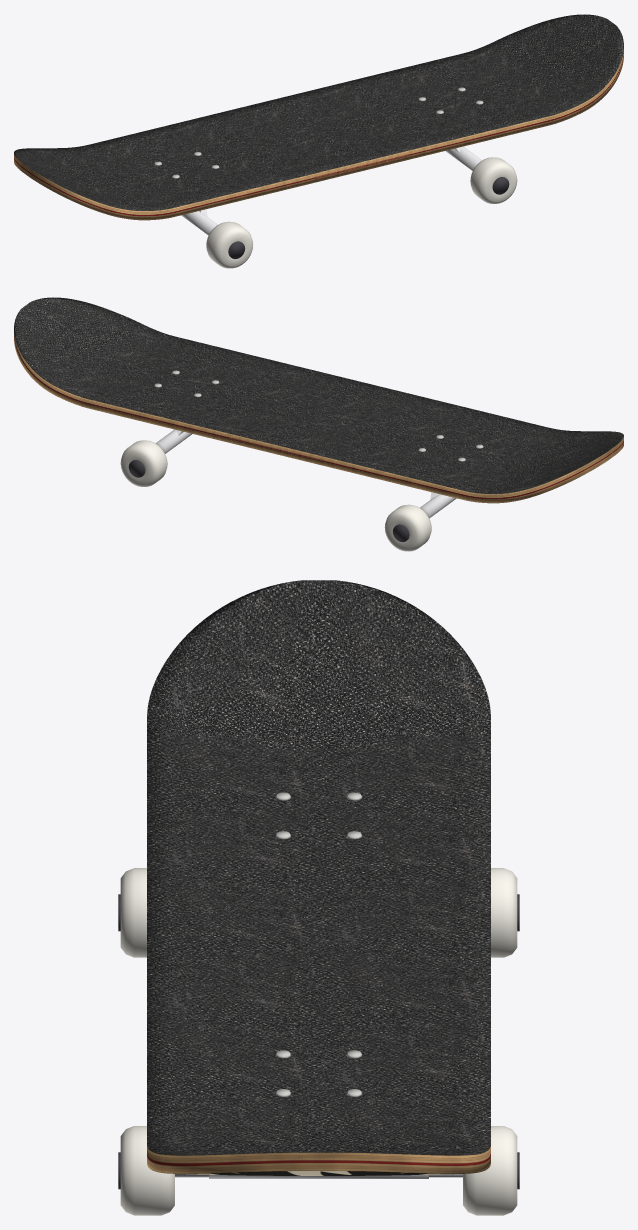
File: board.glb
3 views of the same model, one above another, from view 1: azimuth 30°, elevation 25°; view 2: azimuth 150°, elevation 25°; view 3: azimuth 270°, elevation 25° (orthographic). The views are drawn at different scales.
Visible parts, largest first — view 1: Deck, Wheel_FR, Wheel_BR, Truck_B, Truck_F; view 2: Deck, Wheel_FL, Wheel_BL, Truck_B, Truck_F; view 3: Deck, Wheel_FL, Wheel_FR, Wheel_BL, Wheel_BR, Truck_F, Bolts.
Boxes of the visible parts, bbox=[...] form: Deck: bbox=[14, 14, 623, 220]; Wheel_FR: bbox=[470, 157, 517, 203]; Wheel_BR: bbox=[206, 221, 253, 268]; Truck_B: bbox=[181, 209, 217, 235]; Truck_F: bbox=[446, 146, 482, 170]; Deck: bbox=[14, 297, 623, 503]; Wheel_FL: bbox=[120, 440, 167, 486]; Wheel_BL: bbox=[384, 504, 431, 551]; Truck_B: bbox=[420, 492, 456, 518]; Truck_F: bbox=[155, 429, 191, 453]; Deck: bbox=[147, 580, 490, 1175]; Wheel_FL: bbox=[463, 1126, 517, 1215]; Wheel_FR: bbox=[120, 1126, 174, 1215]; Wheel_BL: bbox=[491, 868, 517, 957]; Wheel_BR: bbox=[120, 868, 146, 957]; Truck_F: bbox=[175, 1174, 462, 1178]; Bolts: bbox=[275, 792, 362, 1096].
Size of the model in its own units: 0.799 by 0.1407 by 0.237.
9 materials, 3 textured.
